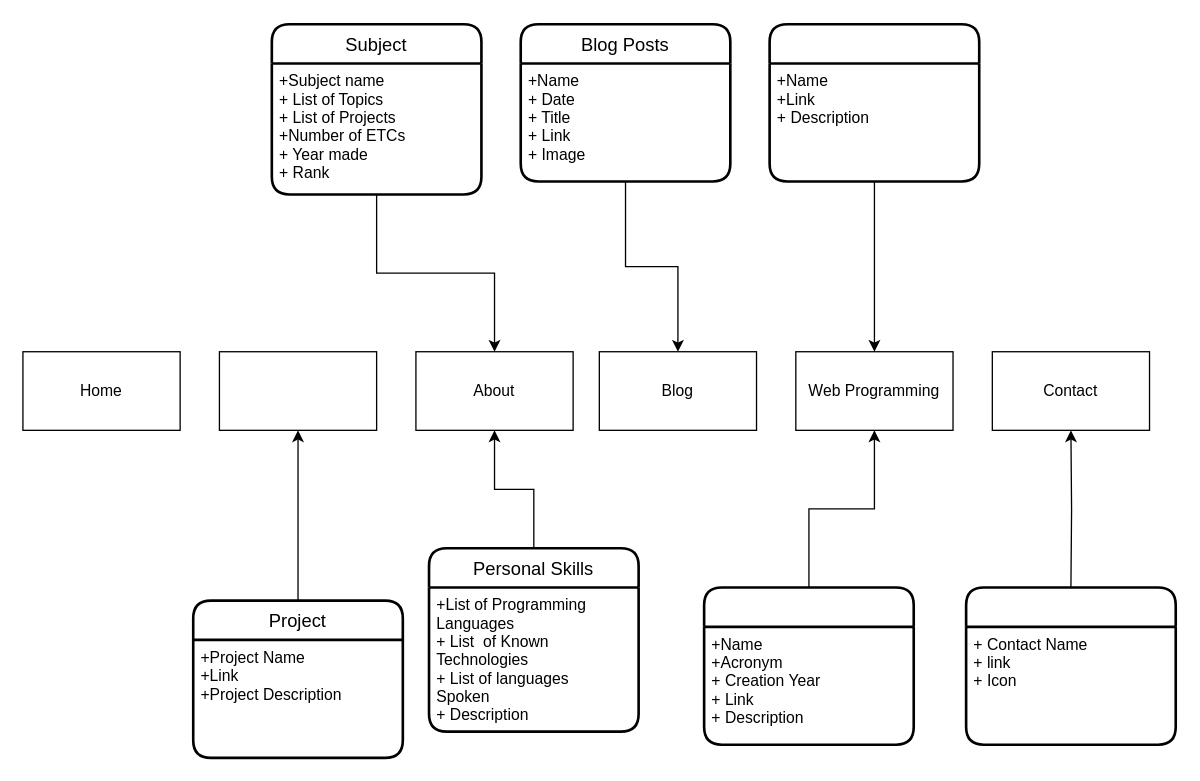
Image size: 1200x781. Some labels were removed from this diagram. The box of each missing label's shape, as (x1, y1, x2, y2) in pixels:
Contact Methods: (964, 586, 1176, 745)
Labs/News: (768, 22, 980, 182)
Projects: (218, 350, 377, 430)
Technologies: (702, 586, 914, 745)
